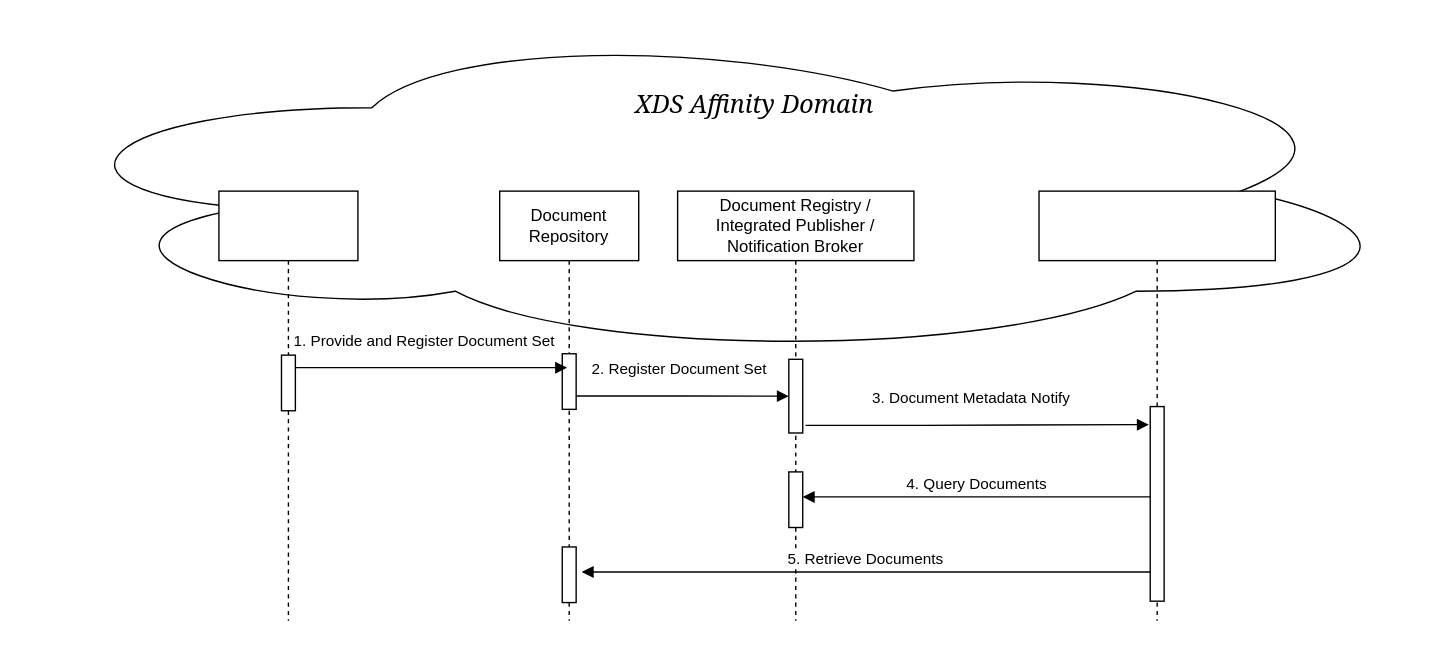
The diagram is 1439 pixels wide and 645 high, and some of its shapes have lost their labels. The centre of each missing label's shape, as x and y in pixels:
Document Consumer / Notification Recipient: the point at 1156,405
Document Source (e.g. PCP): the point at 288,405
